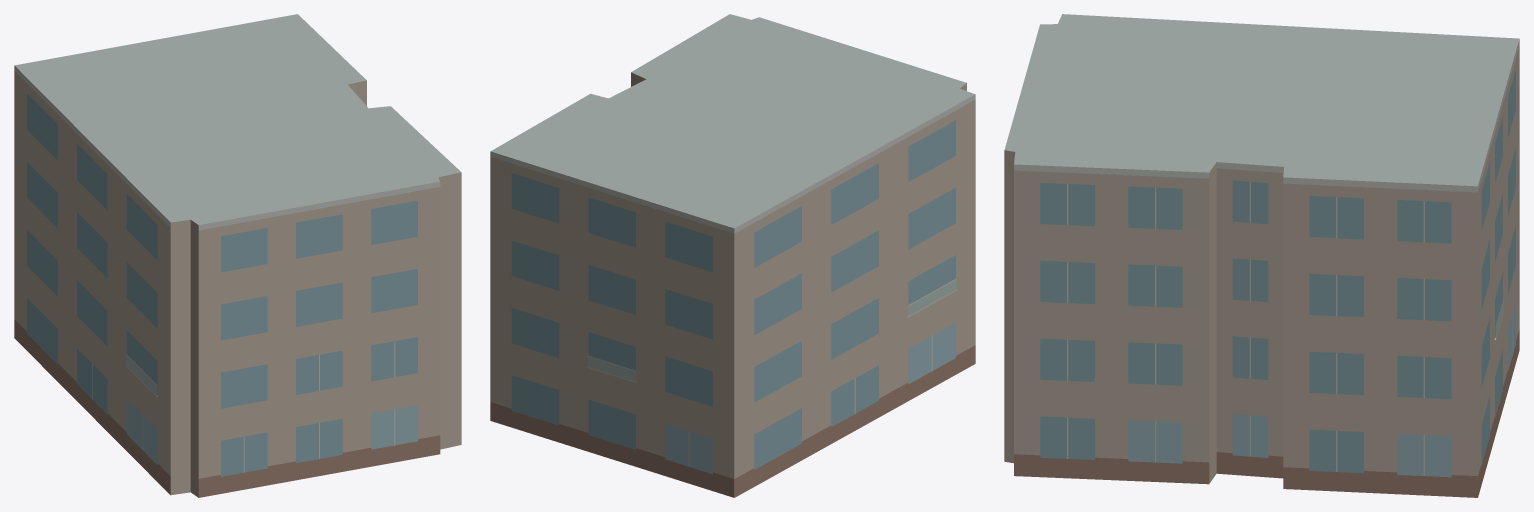
The model's file is survey-upis-32908107.glb.
3 renders of one model, left to right at view 1: azimuth 30°, elevation 25°; view 2: azimuth 150°, elevation 25°; view 3: azimuth 270°, elevation 25°, orthographic. The views are drawn at different scales.
Visible parts, largest first — view 1: survey-upis-32908107.tmp; view 2: survey-upis-32908107.tmp; view 3: survey-upis-32908107.tmp.
Boxes of the visible parts, x1,y1,x2,y2 form: survey-upis-32908107.tmp: [14, 14, 461, 497]; survey-upis-32908107.tmp: [490, 14, 975, 497]; survey-upis-32908107.tmp: [1004, 14, 1519, 497].
Bounding box in the file's own units: 14.72 × 12.4 × 18.59.
